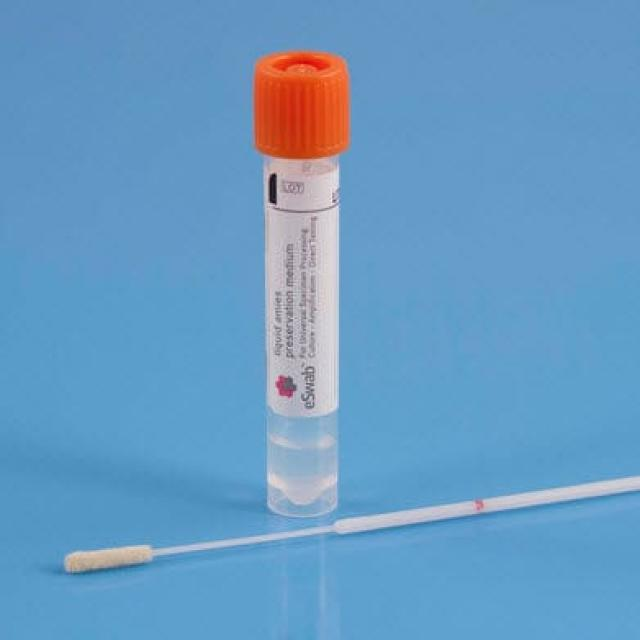B3: (35, 467, 638, 584)
